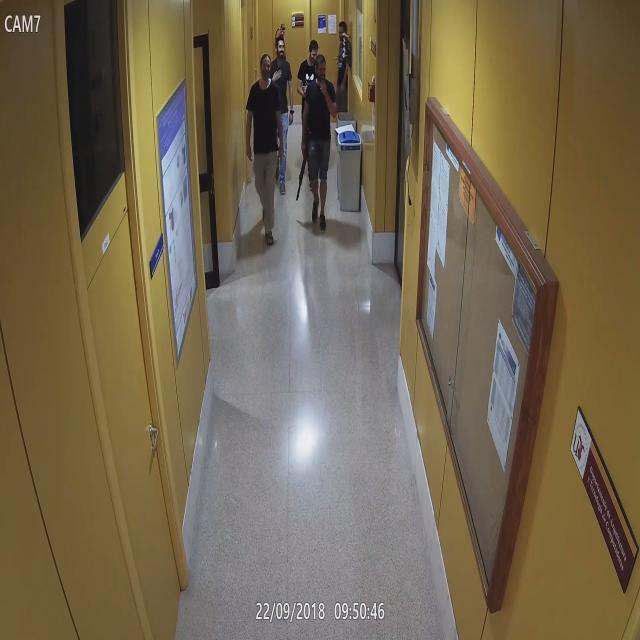pistol: (296, 130, 314, 200)
